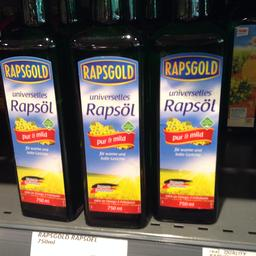oil: (68, 0, 150, 229), (0, 0, 81, 222), (148, 0, 226, 224)
